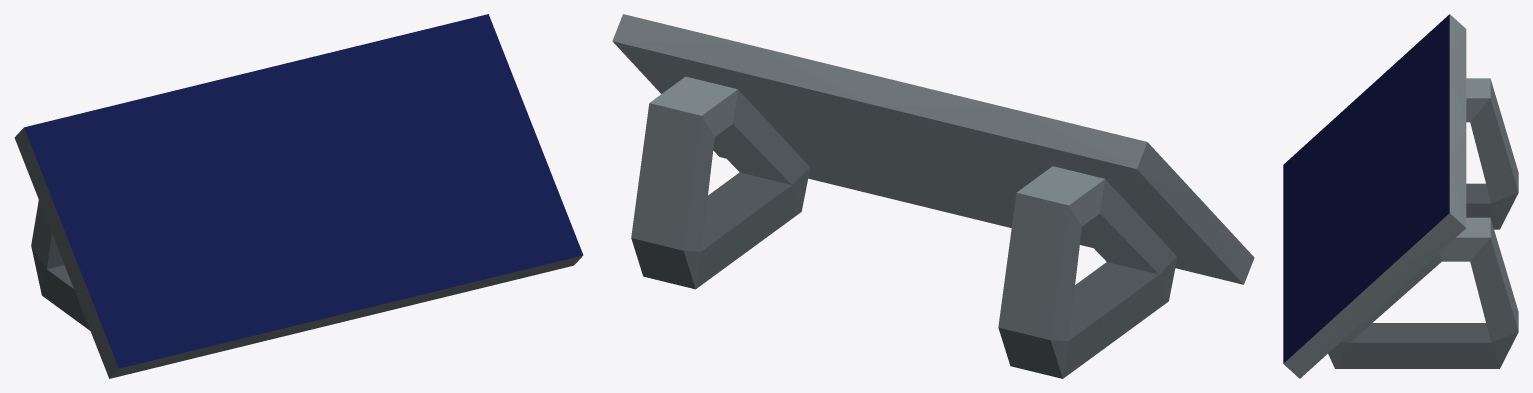
The model's file is kk_solarpanel.obj.
The picture shows the model from 3 angles, left to right: view 1: azimuth 30°, elevation 25°; view 2: azimuth 150°, elevation 25°; view 3: azimuth 270°, elevation 25°; orthographic projection. The views are drawn at different scales.
Size of the model in its own units: 6.07 by 2.5 by 3.03.
